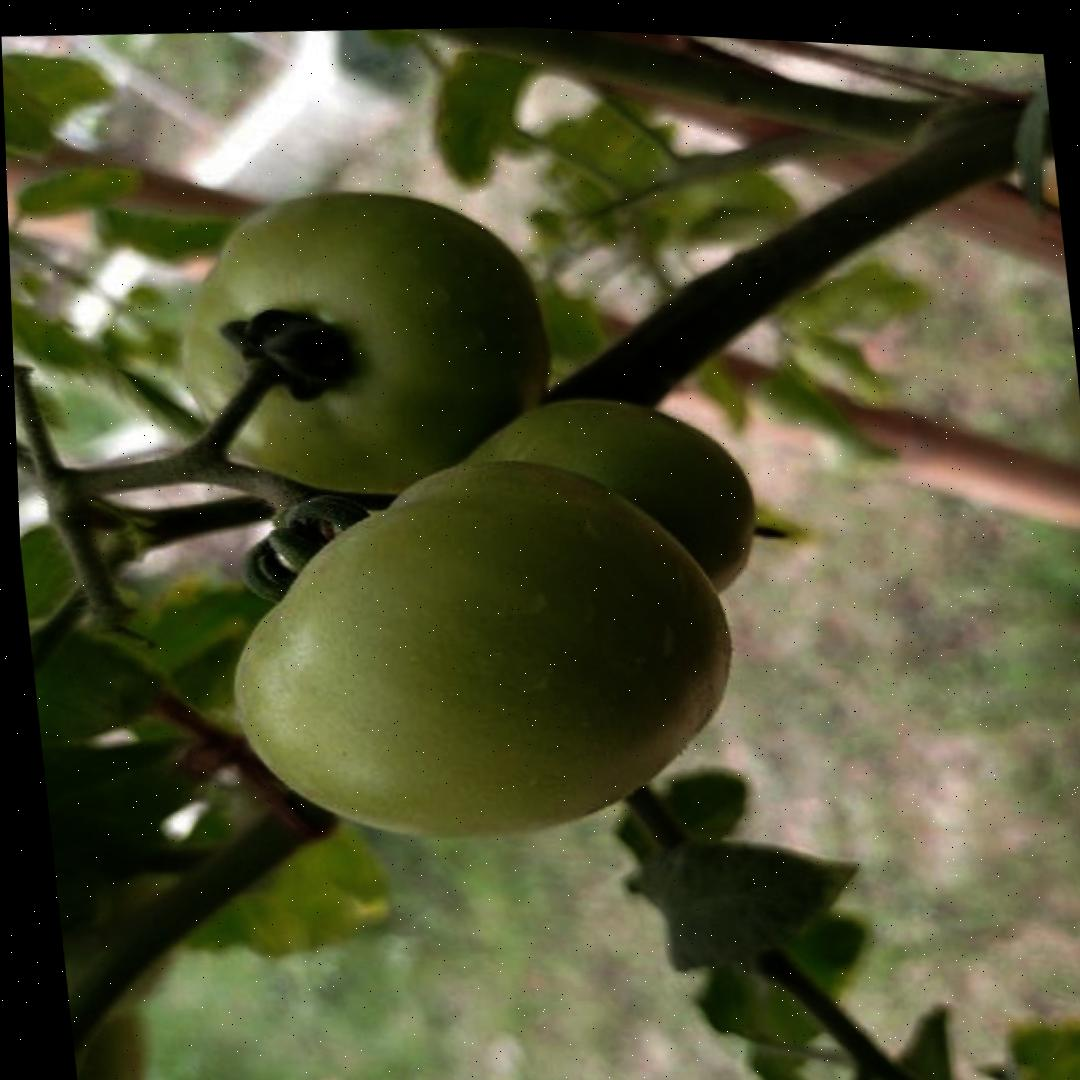mentah: (206, 428, 751, 871), (161, 167, 560, 517)
